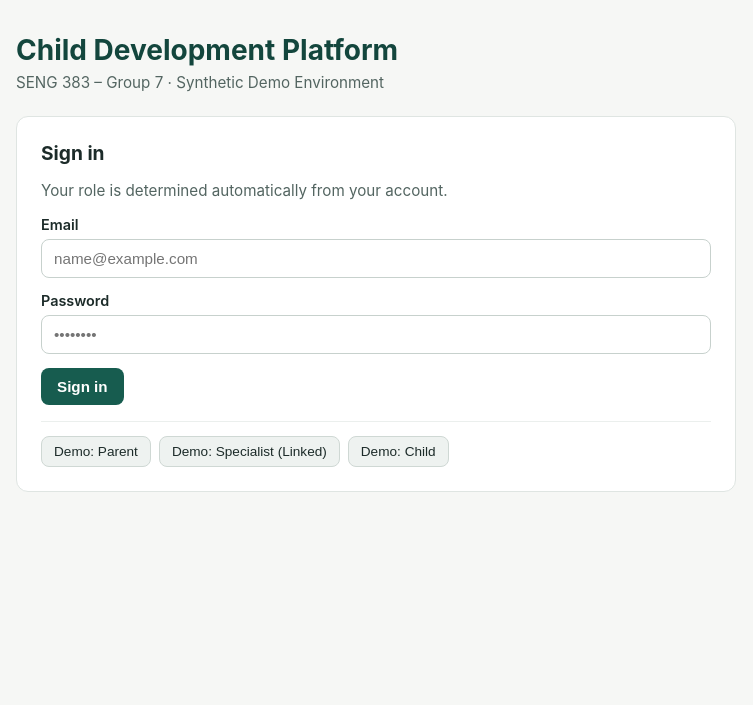
Test: M5–M8 UI flows (Entries, Statistics, Role-Based AI Summary) › shows specialist entries and allows editing with edited badge
Click the button "Demo: Specialist (Linked)" at (249, 451), box 159,436 -> 340,467
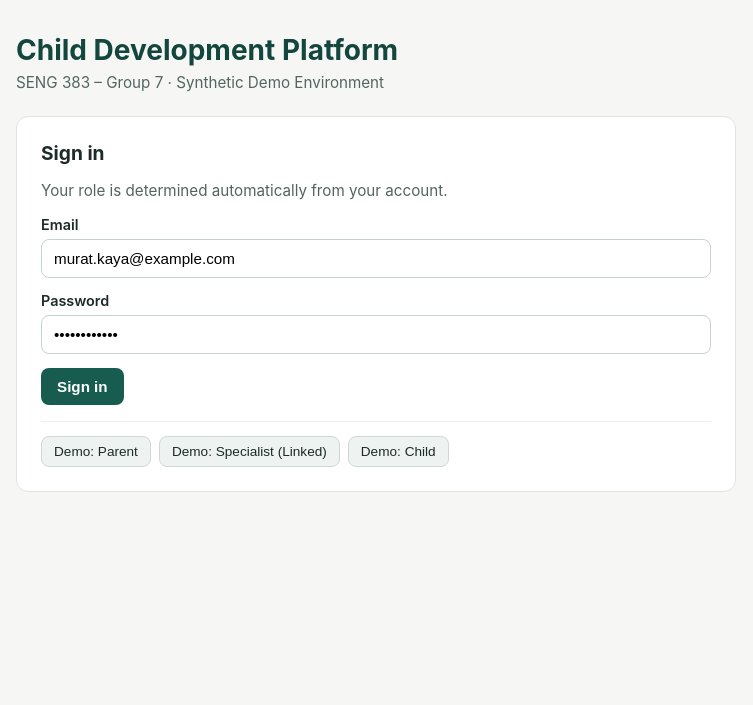
Click the button "Sign in" at (82, 386), box 41,368 -> 124,405
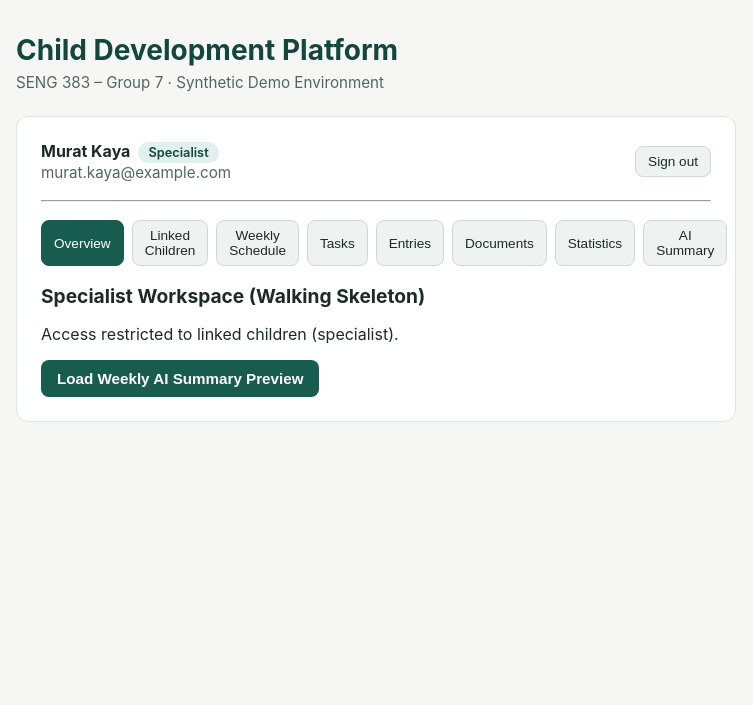
Click the button "Entries" at (410, 243), box 376,220 -> 444,266
(page scrolled)
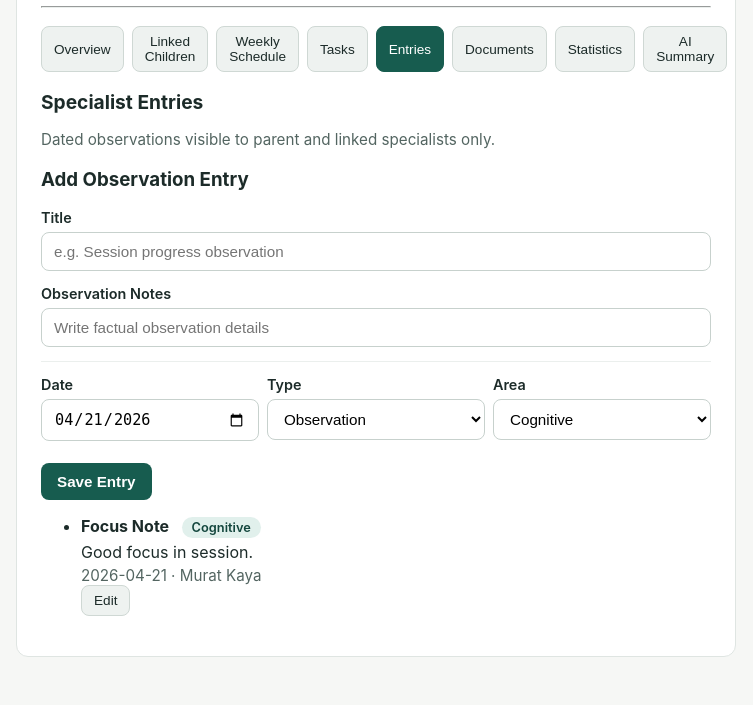
Expected: the text "Focus Note" is shown, 81,516 -> 169,536
Click the button "Edit" at (106, 601), box 81,585 -> 130,616
(page scrolled)
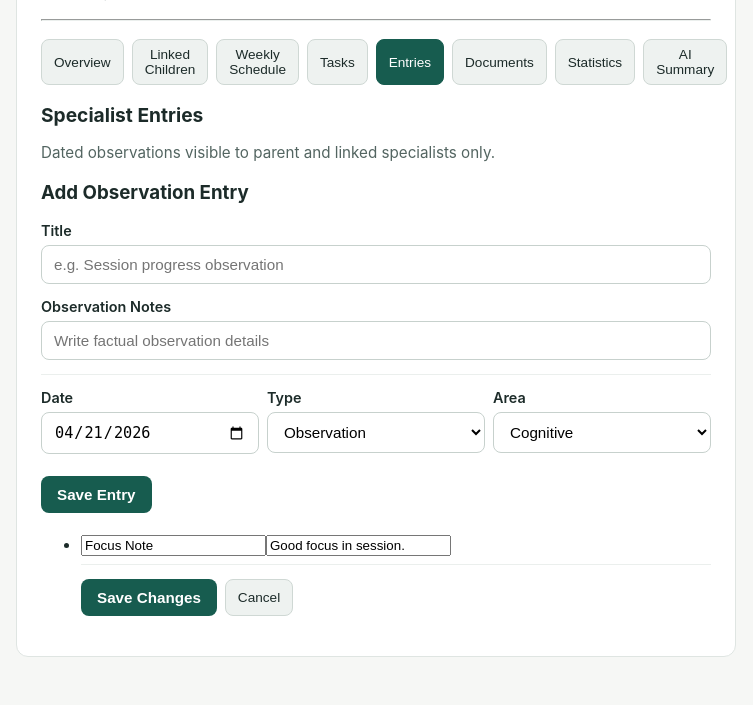
Replace the text in the field named "Edit entry content" with "Updated focus observation." at (358, 546), box 266,535 -> 451,556
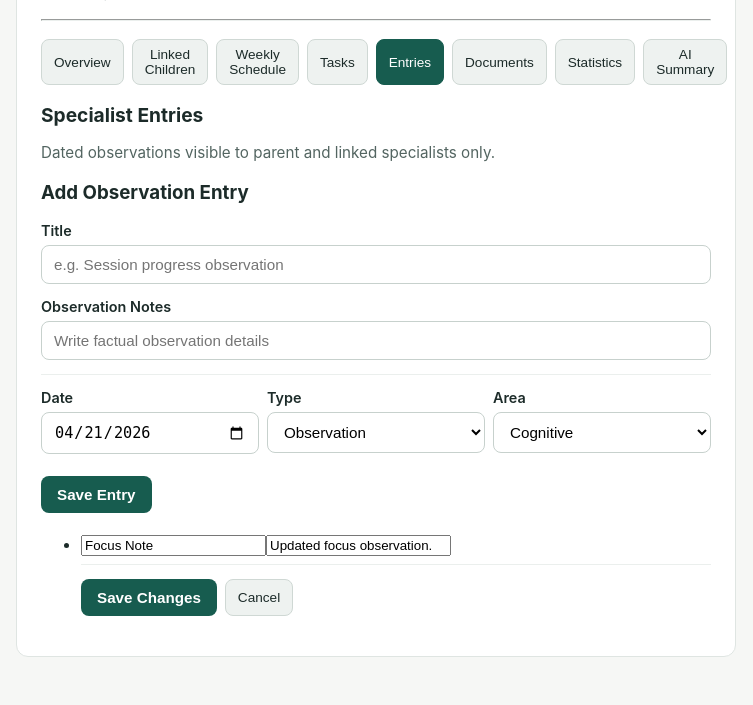
Click the button "Save Changes" at (149, 598), box 81,579 -> 217,616
(page scrolled)
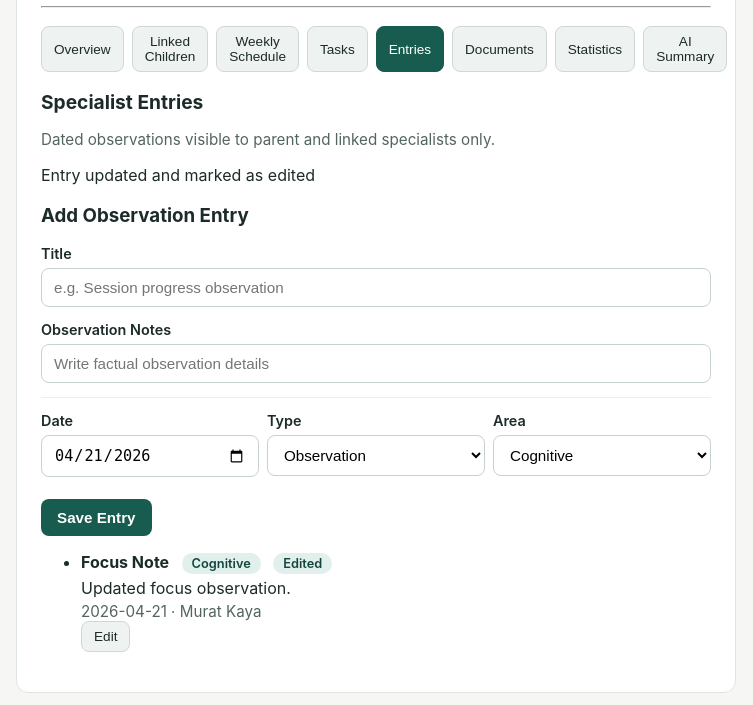
Expected: the text "edited" is shown, 273,553 -> 332,574
